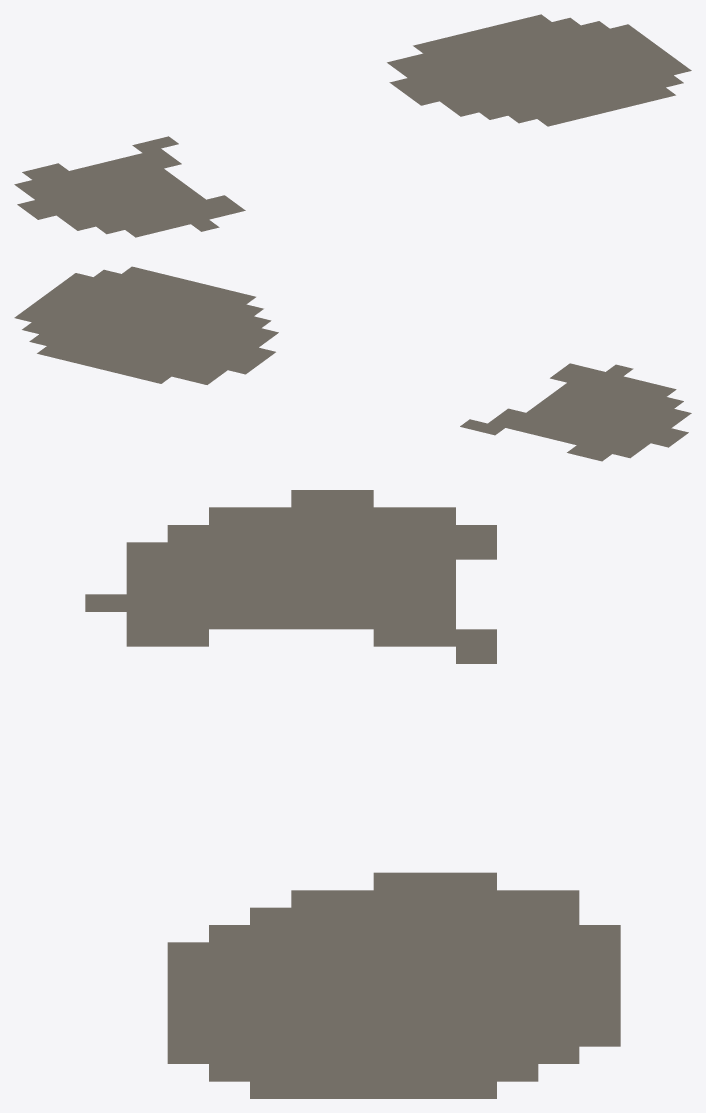
The model's file is Isl-bot3-RocksArea.fbx.
3 views of the same model, one above another, from view 1: azimuth 30°, elevation 25°; view 2: azimuth 150°, elevation 25°; view 3: azimuth 270°, elevation 25° (orthographic). The views are drawn at different scales.
Parts seen in each view (by area): view 1: Isl-bot3-RocksArea; view 2: Isl-bot3-RocksArea; view 3: Isl-bot3-RocksArea.
Boxes of the visible parts, box(x1,y1,x2,y2) form: Isl-bot3-RocksArea: box(14, 14, 691, 237); Isl-bot3-RocksArea: box(14, 266, 691, 461); Isl-bot3-RocksArea: box(85, 490, 620, 1098).
Bounding box in the file's own units: 35 × 0 × 13.
